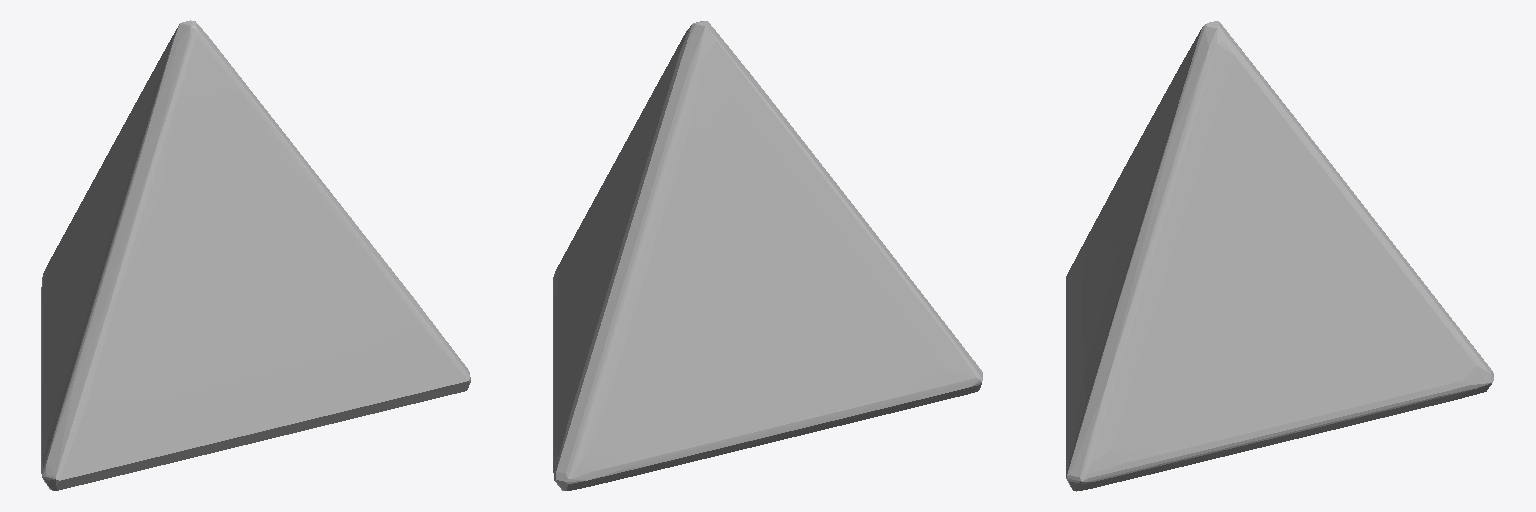
The robot description file, URDF, robot "root":
<robot name="root">
  <link name="link_coacd_convex_piece_0">
    <inertial>
      <origin xyz="0 0 0" rpy="0 0 0"/>
      <mass value="2.70E-01"/>
      <inertia ixx="2.53E-02" ixy="6.06E-06" ixz="9.60E-06" iyy="2.55E-02" iyz="2.30E-04" izz="2.55E-02"/>
    </inertial>
    <visual>
      <origin xyz="0 0 0" rpy="0 0 0"/>
      <geometry>
        <mesh filename="coacd_convex_piece_0.obj" scale="1.0000E+00 1.0000E+00 1.0000E+00"/>
      </geometry>
      <material name="">
        <color rgba="7.50E-01 7.50E-01 7.50E-01 1"/>
      </material>
    </visual>
    <collision>
      <origin xyz="0 0 0" rpy="0 0 0"/>
      <geometry>
        <mesh filename="coacd_convex_piece_0.obj" scale="1.0000E+00 1.0000E+00 1.0000E+00"/>
      </geometry>
    </collision>
  </link>
</robot>

--- What the picture shows (computed from the rendered views, not written in the file) ---
The picture shows the robot from 3 angles, left to right: view 1: azimuth 30°, elevation 25°; view 2: azimuth 150°, elevation 25°; view 3: azimuth 270°, elevation 25°; orthographic projection.
Model root with 1 links and 0 joints (none), rooted at link_coacd_convex_piece_0, posed all joints at 0.
Links seen in each view (by area): view 1: link_coacd_convex_piece_0; view 2: link_coacd_convex_piece_0; view 3: link_coacd_convex_piece_0.
Link boxes in pixels (x1,y1,x2,y2): link_coacd_convex_piece_0: (41, 20, 470, 490); link_coacd_convex_piece_0: (553, 21, 982, 490); link_coacd_convex_piece_0: (1066, 21, 1493, 491).
Size in the robot's own frame: 1.29 by 1.12 by 1.06 metres.
1 mesh visuals loaded from 1 distinct referenced files (1 OBJ).